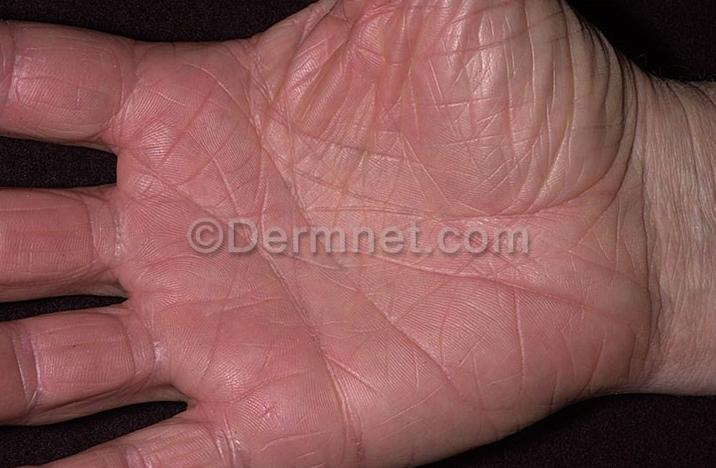liquenificacion 1: (0, 0, 674, 468)
